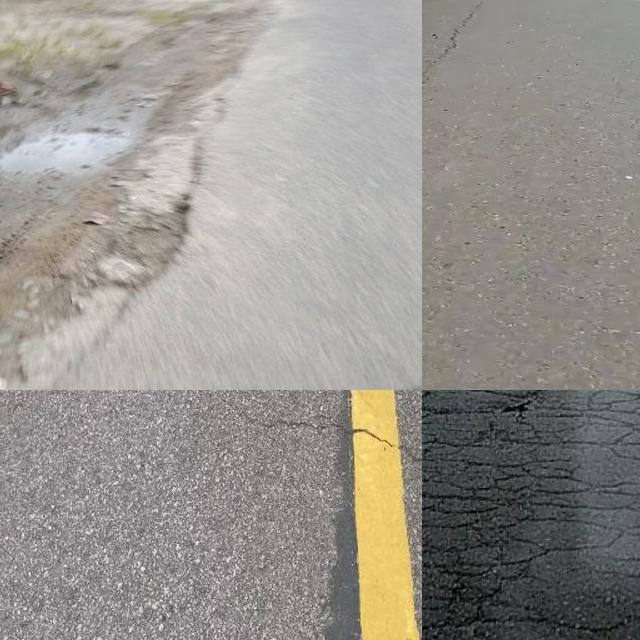Melintang: (231, 407, 422, 471)
Pinggir: (0, 65, 265, 390)
Retak Buaya: (422, 390, 640, 640)
